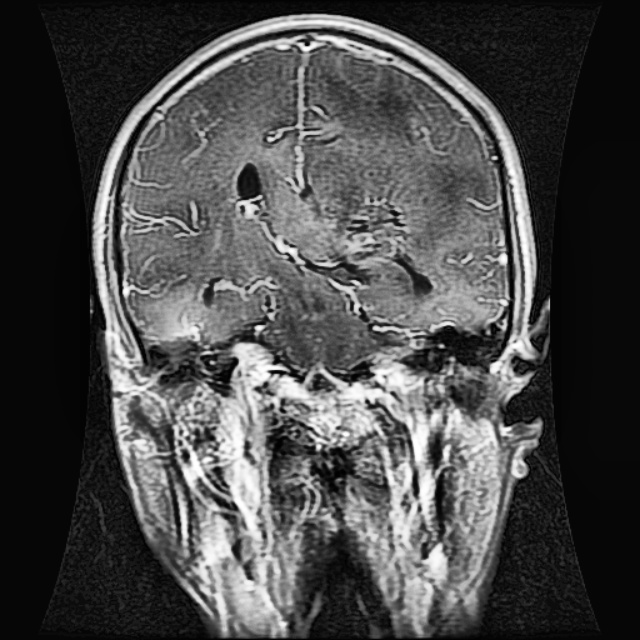Meningioma: (329, 184, 408, 265)
